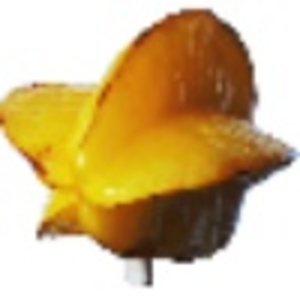carambola: (1, 6, 300, 284)
